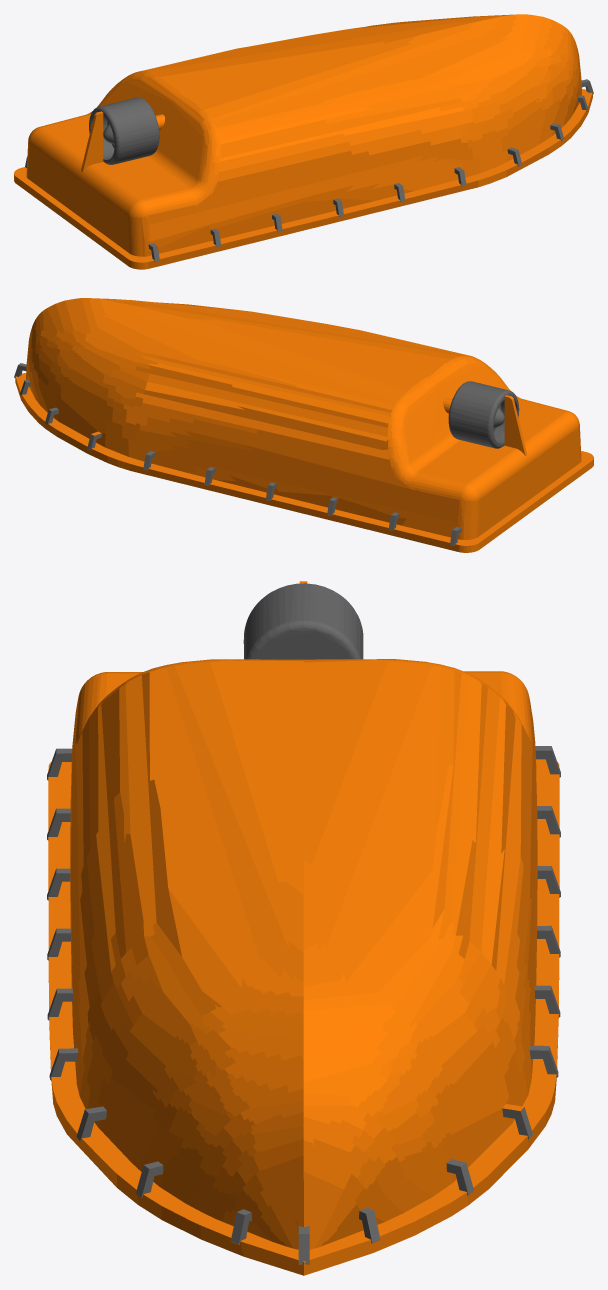
Rendered from Bagian_Bawah_Sekoci.fbx.
The picture shows the model from 3 angles, top to bottom: view 1: azimuth 30°, elevation 25°; view 2: azimuth 150°, elevation 25°; view 3: azimuth 270°, elevation 25°; orthographic projection. The views are drawn at different scales.
Parts seen in each view (by area): view 1: Bagian Bawah Sekoci; view 2: Bagian Bawah Sekoci; view 3: Bagian Bawah Sekoci.
Part boxes in pixels (box(x1,y1,x2,y2)): Bagian Bawah Sekoci: box(14, 14, 593, 269); Bagian Bawah Sekoci: box(14, 298, 593, 552); Bagian Bawah Sekoci: box(47, 581, 560, 1275).
Size of the model in its own units: 707 by 141 by 302.
